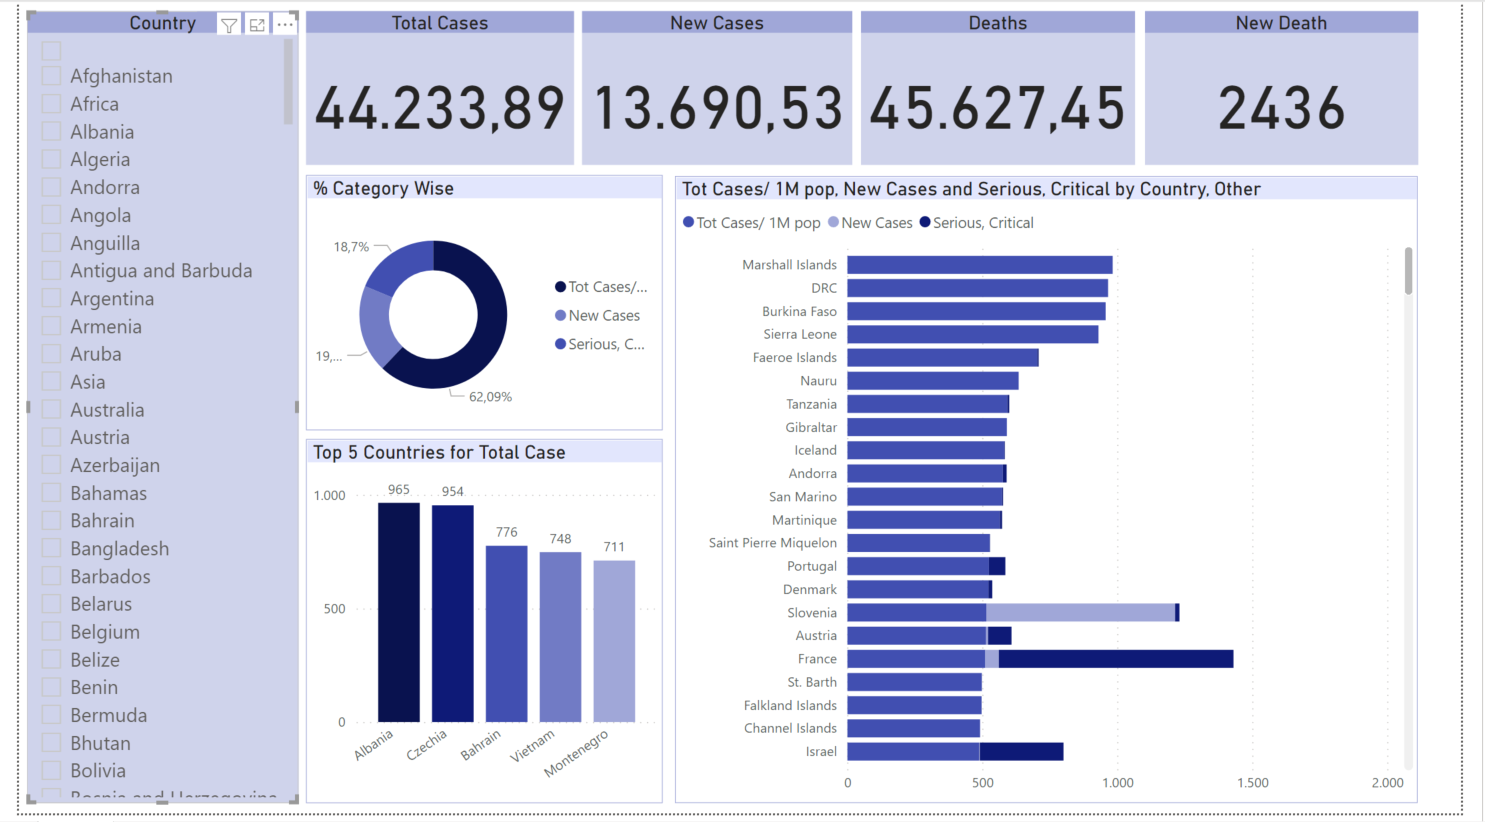

The dashboard page shown, as its layout file describes it:
{"tool":"powerbi","page":{"name":"Page 1","canvas":[1280,720],"ordinal":0},"visuals":[{"type":"card","title":"Total Cases","fields":{"Values":["Sum(Table 1.Tot Cases/ 1M pop)"]},"box":[254.8,8,237.9,136.7],"z":1},{"type":"slicer","title":"Country","fields":{"Values":["Table 1.Country, Other"]},"box":[6.8,7.8,241.2,703.2],"z":2},{"type":"card","title":"New Cases","fields":{"Values":["Sum(Table 1.New Cases)"]},"box":[499.8,8,239.7,136.7],"z":3},{"type":"card","title":"Deaths","fields":{"Values":["Sum(Table 1.Deaths/ 1M pop)"]},"box":[747.5,8,243.3,136.7],"z":4},{"type":"card","title":"New Death","fields":{"Values":["Sum(Table 1.New Deaths)"]},"box":[999.7,8,242.4,136.7],"z":5},{"type":"donutChart","title":"% Category Wise","fields":{"Y":["Sum(Table 1.Tot Cases/ 1M pop)","Sum(Table 1.New Cases)","Sum(Table 1.Serious, Critical)"]},"box":[254.8,153.6,316.9,226.4],"z":6},{"type":"clusteredColumnChart","title":"Top 5 Countries for Total Case","fields":{"Category":["Table 1.Country, Other"],"Y":["Sum(Table 1.New Cases)"]},"box":[254.8,388,316.9,323.2],"z":7},{"type":"barChart","fields":{"Y":["Sum(Table 1.Tot Cases/ 1M pop)","Sum(Table 1.New Cases)","Sum(Table 1.Serious, Critical)"],"Category":["Table 1.Country, Other"]},"box":[582.4,154.5,659.6,556.6],"z":8}]}

Visuals, with their boxes in screenshot pixels (x1, y1, x2, y2), scaled from the page's 1280x720 canvas onto the 1485x822 screenshot:
"Total Cases" card: rect(296, 9, 572, 165)
"Country" slicer: rect(8, 9, 288, 812)
"New Cases" card: rect(580, 9, 858, 165)
"Deaths" card: rect(867, 9, 1149, 165)
"New Death" card: rect(1160, 9, 1441, 165)
"% Category Wise" donutChart: rect(296, 175, 663, 434)
"Top 5 Countries for Total Case" clusteredColumnChart: rect(296, 443, 663, 812)
barChart - Sum(Table 1.Tot Cases/ 1M pop) x Sum(Table 1.New Cases): rect(676, 176, 1441, 812)
